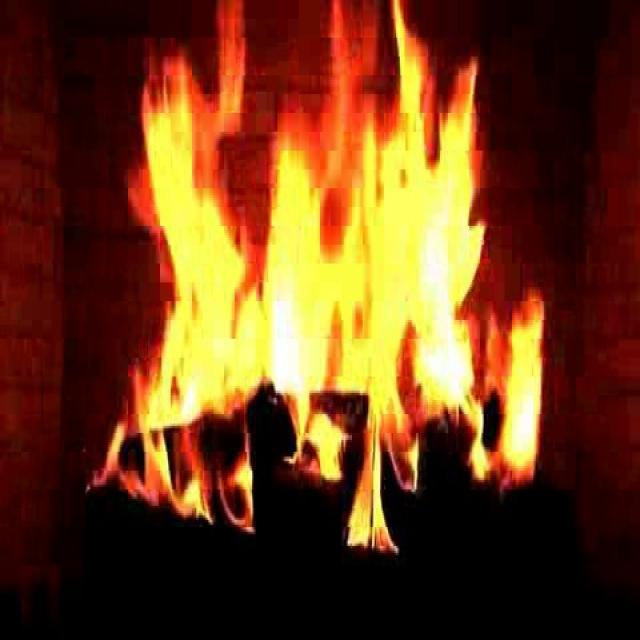fire: (135, 19, 522, 512)
